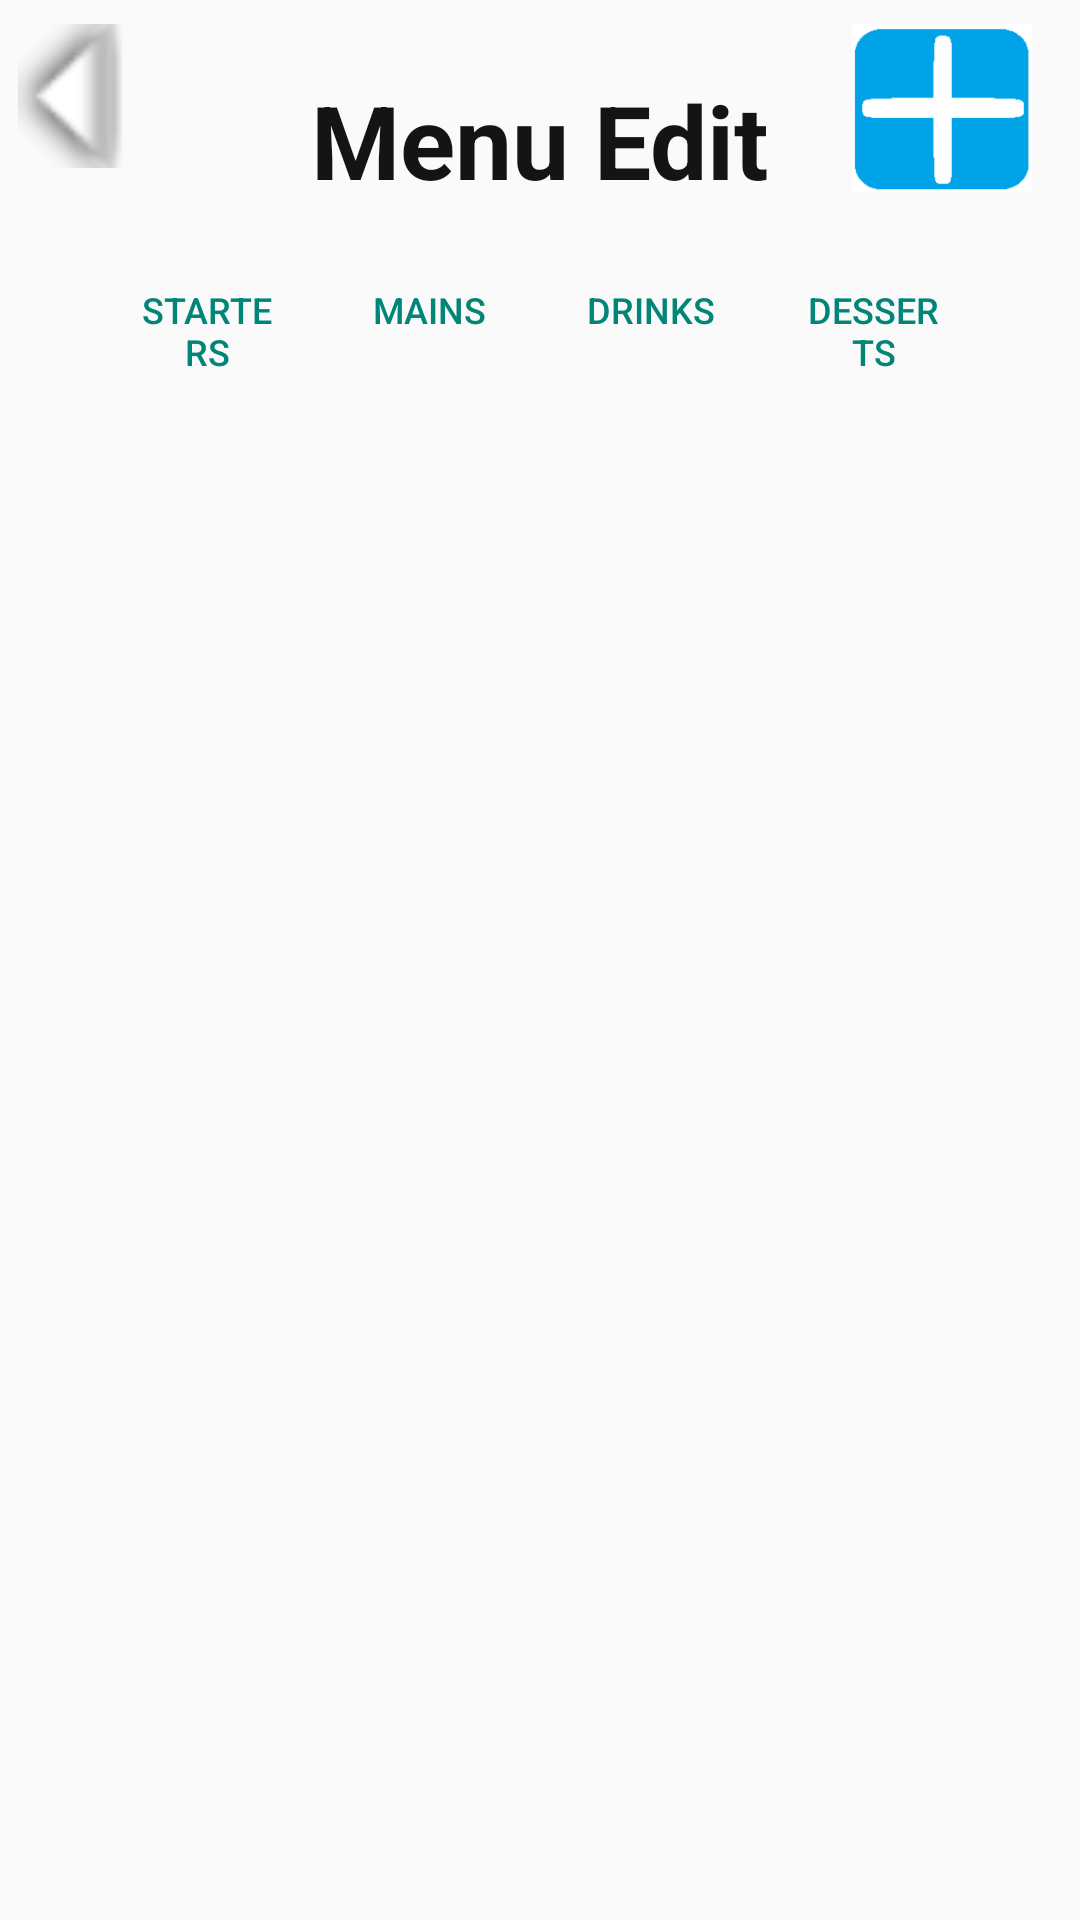

Where icons sit on this 1080×1920 app screen, as Rect(x1, y1, x2, y2):
additem: Rect(855, 29, 1029, 190)
